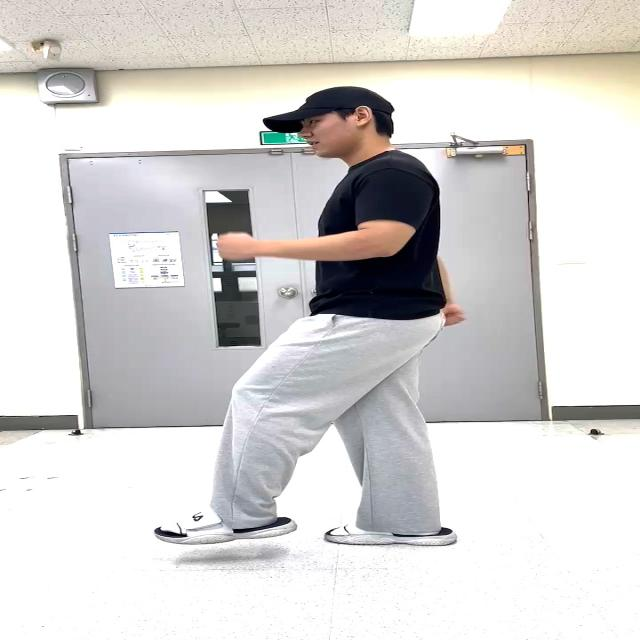leg: (196, 308, 353, 561)
